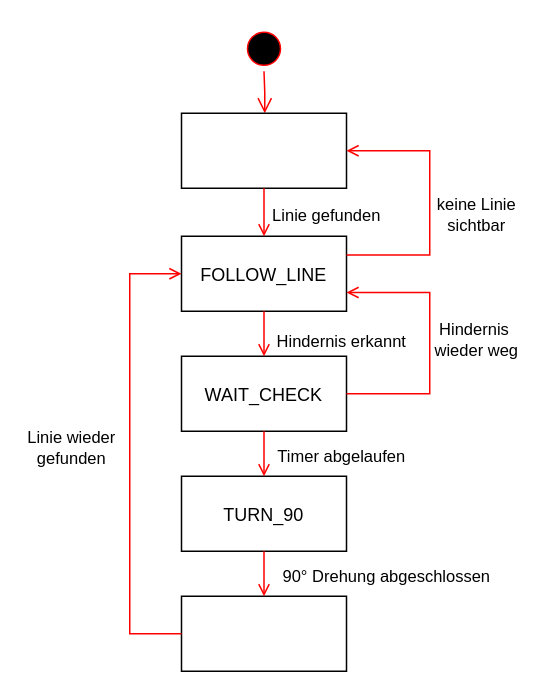
Some shapes in this 543 by 698 pixel diagram are drawn without their labels. Here are the shapes that lost their labels. From the top down, the box of each, then its label:
(180, 112, 346, 188): SEARCH
(180, 595, 346, 671): AVOID_OBSTACLE
